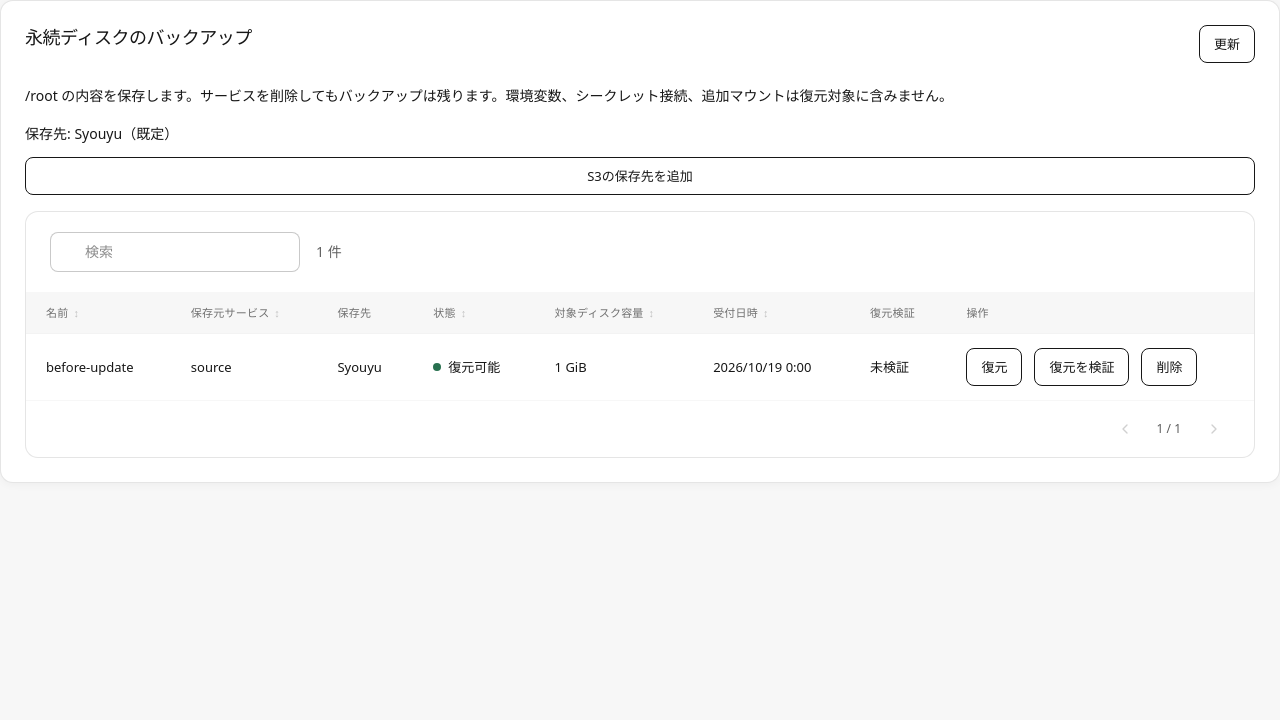
Test: FlashBackupsPanel › 復元先を選んでから復元を要求し新サービスへ移動する
The width and height of the screenshot is (1280, 720).
Click the button "復元" at (994, 367), box x1=966 y1=348 x2=1022 y2=386
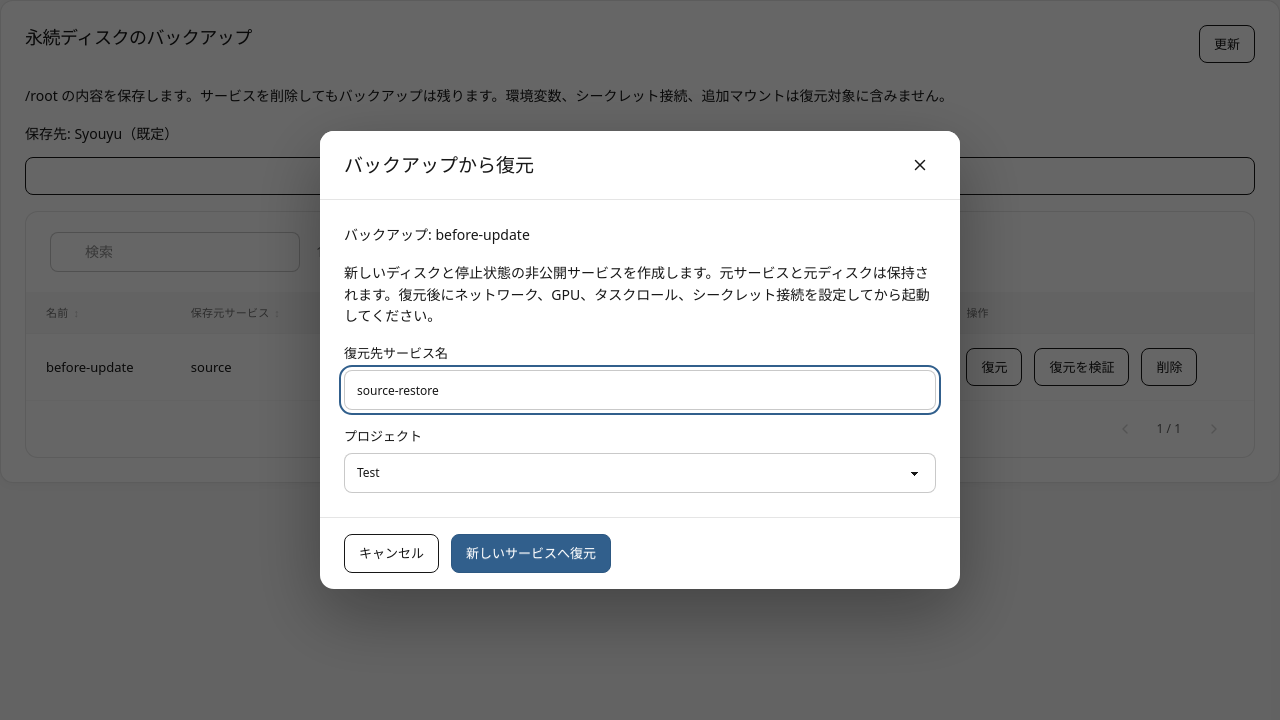
Expected: the text "停止状態の非公開サービス" is shown, x1=344 y1=263 x2=930 y2=326
Replace the text in the field labelled "復元先サービス名" with "recovered" at (640, 390), box x1=344 y1=370 x2=936 y2=410
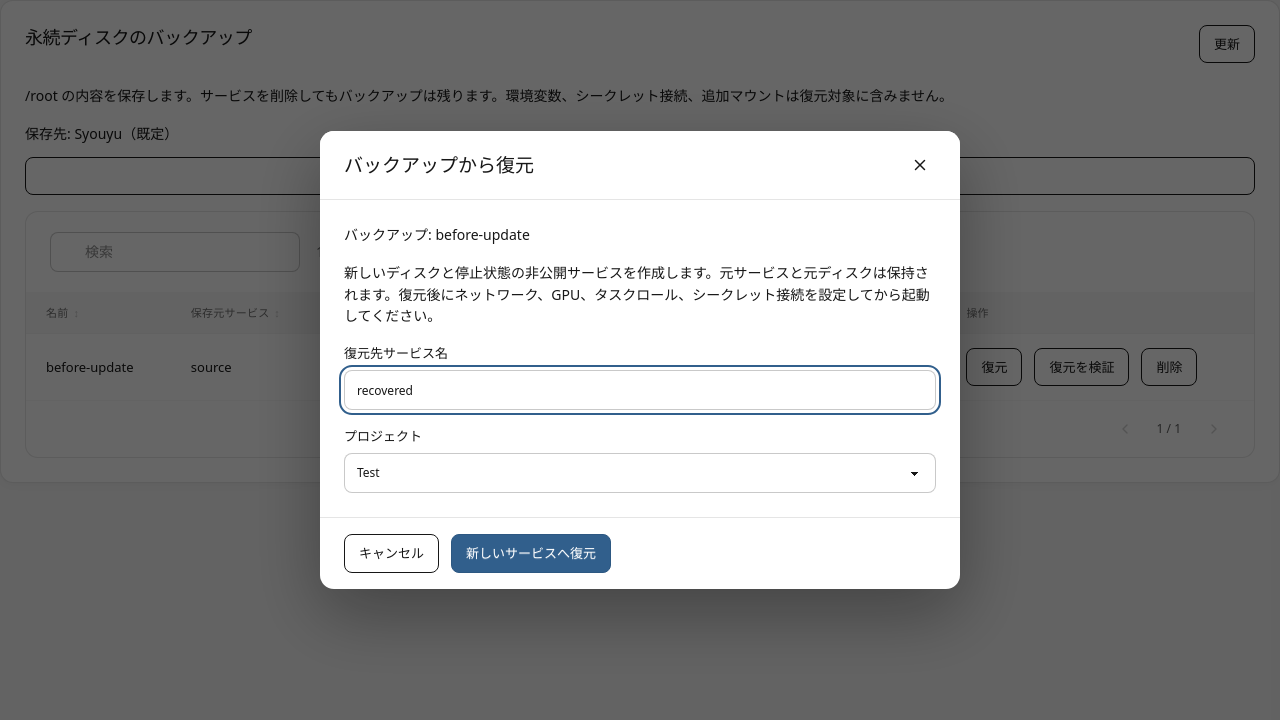
Click the button "新しいサービスへ復元" at (531, 553), box x1=451 y1=534 x2=611 y2=572
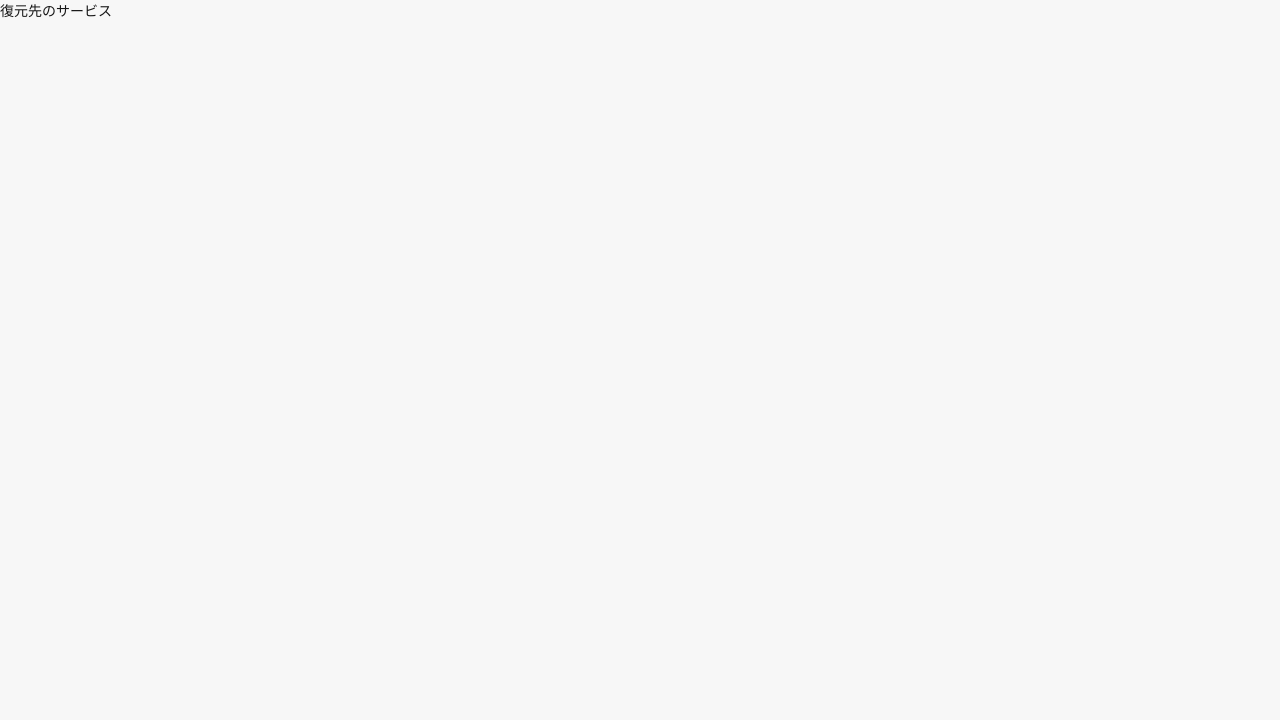
Expected: the text "復元先のサービス" is shown, x1=0 y1=1 x2=112 y2=20
